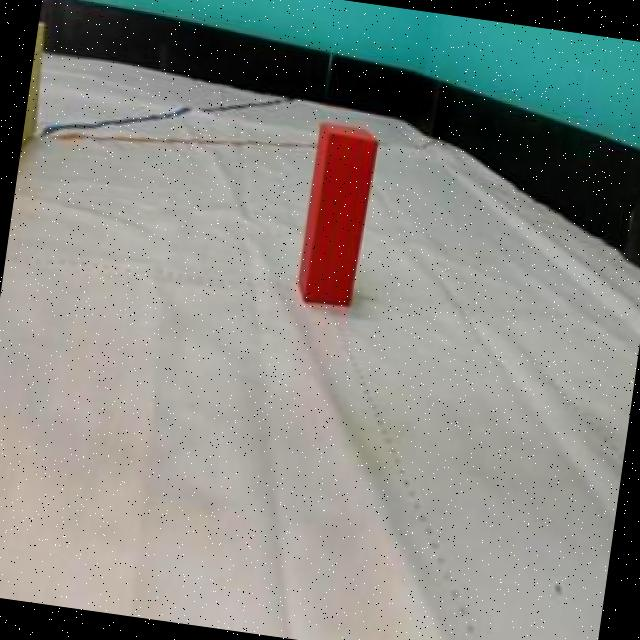redbox: (296, 120, 382, 310)
